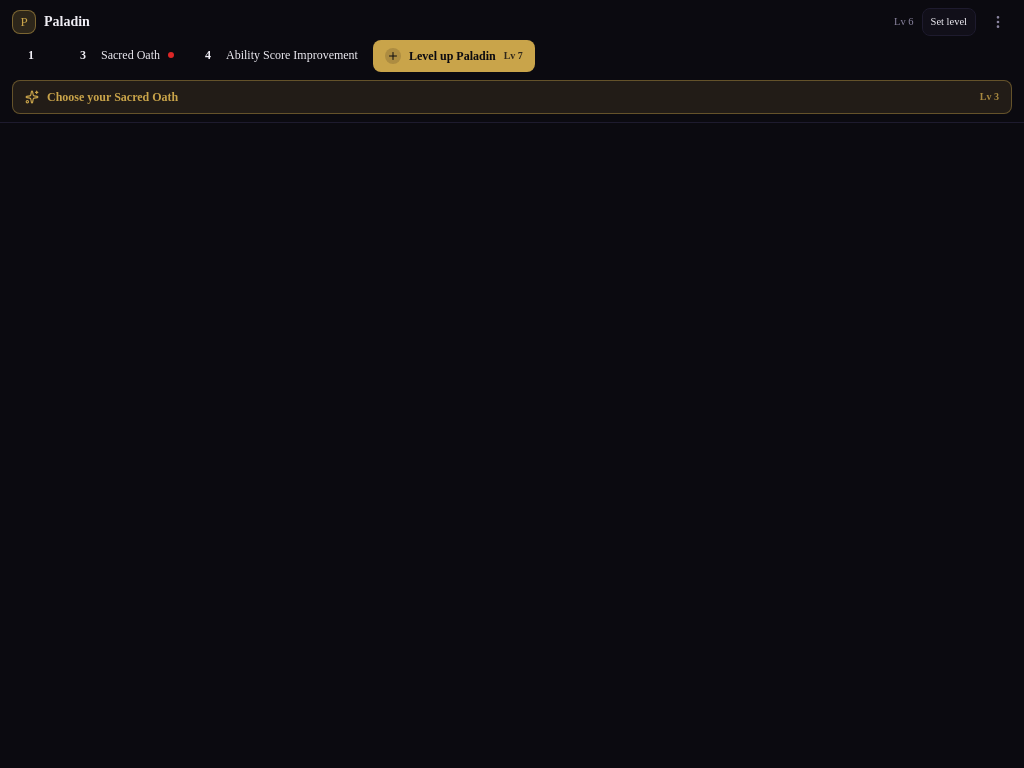
LevelRailMobile › renders 'Set level' button that opens the LevelRailSetLevelSheet
Click the button "Set level".
click(949, 22)  # box [922,8,976,36]
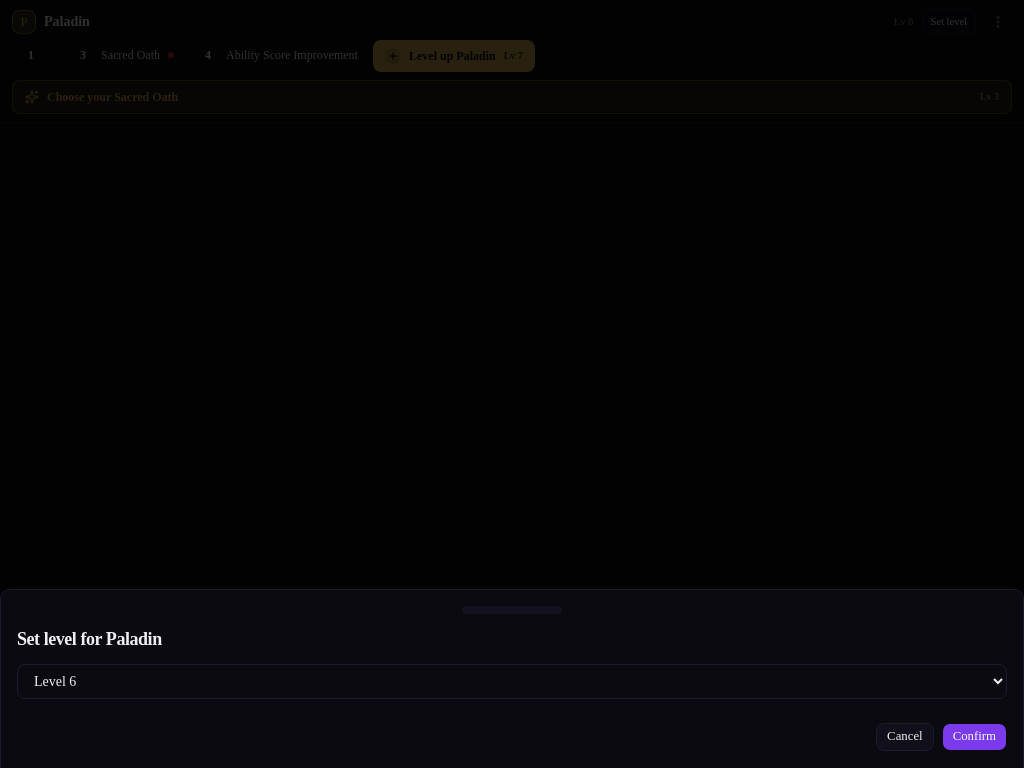
Expected: the heading "Set level for Paladin" is shown, [17,629,162,649]
